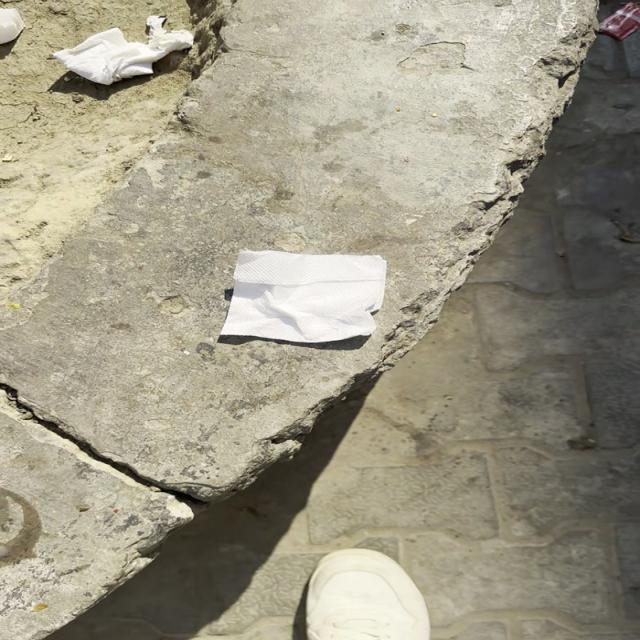tissue: (210, 245, 393, 347)
